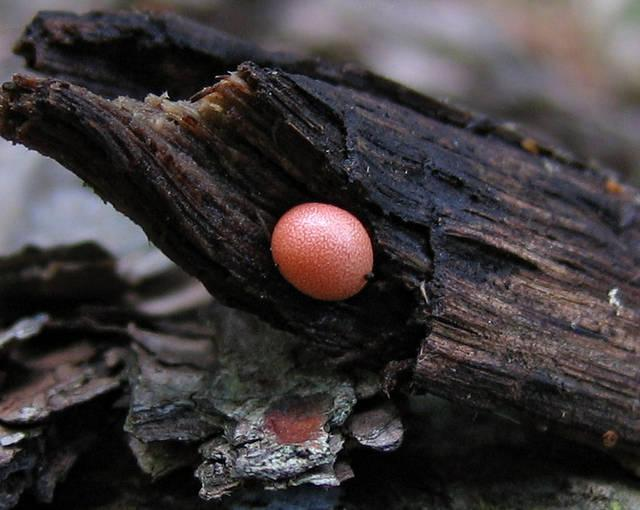poisonous_mushroom: (268, 200, 375, 302)
